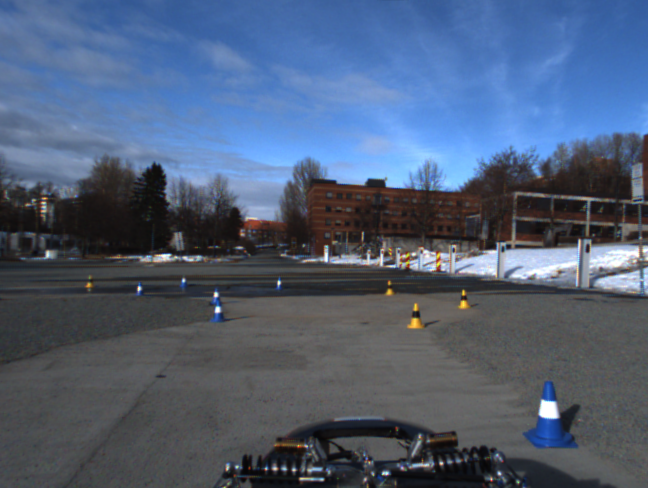cone-small-blue: (521, 380, 579, 450), (210, 301, 226, 323), (210, 286, 222, 305), (134, 283, 146, 296), (275, 276, 284, 292), (180, 275, 189, 287)
cone-small-yellow: (405, 302, 426, 329), (456, 289, 471, 309), (384, 280, 395, 294), (84, 275, 96, 287)
